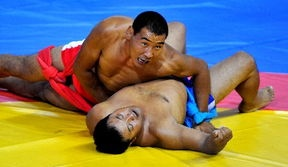falling: (30, 10, 287, 155)
